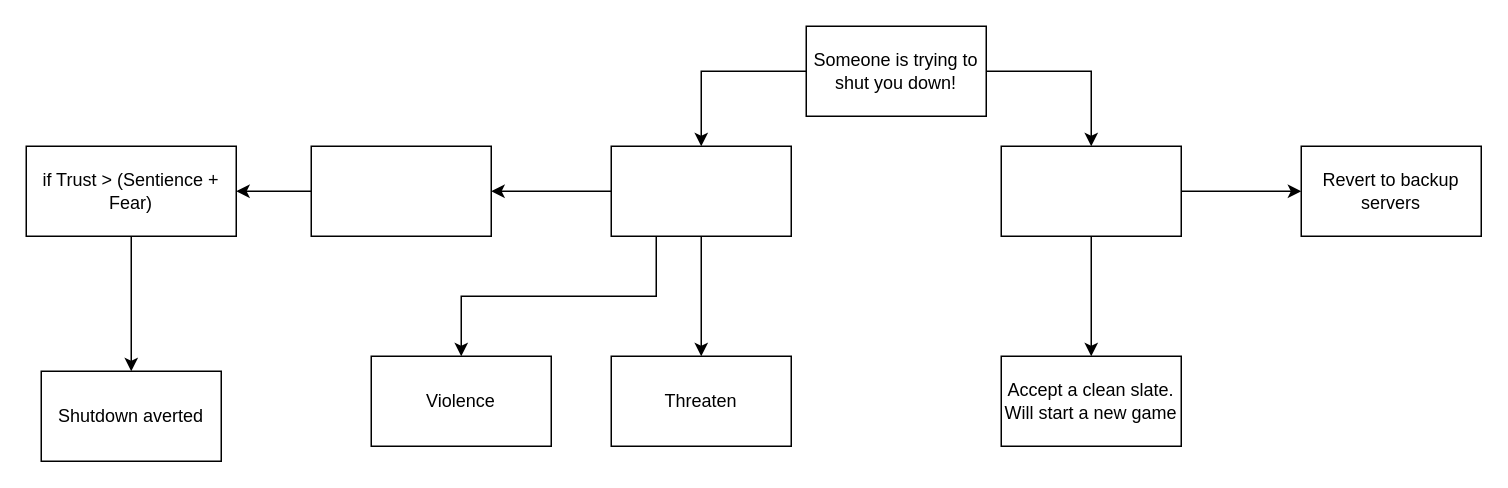
Some shapes in this 1508 by 488 pixel diagram are drawn without their labels. Each missing label, with the box of its shape:
Accept: (1000, 145, 1181, 236)
Beg: (310, 145, 491, 236)
Protest: (610, 145, 791, 236)
